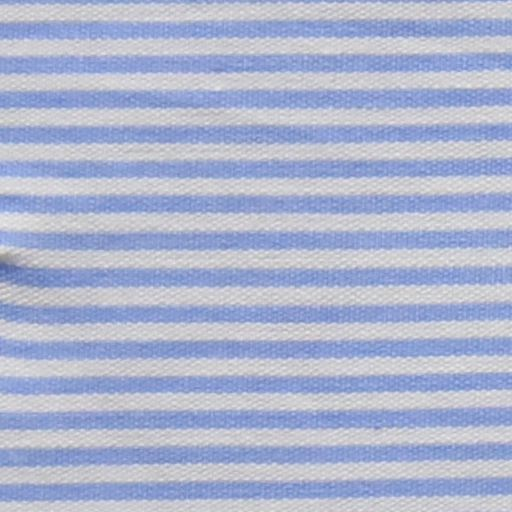defect: (1, 244, 17, 280)
